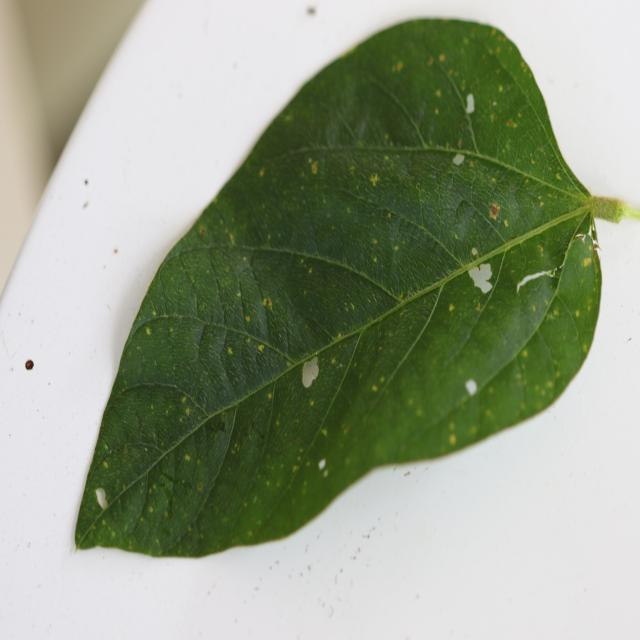Soybean: (0, 0, 640, 640)
downey_mildew: (114, 250, 312, 438), (204, 317, 353, 532), (212, 149, 408, 278), (271, 52, 420, 185), (427, 264, 549, 416), (512, 227, 595, 425), (79, 425, 203, 548), (184, 383, 275, 544), (252, 255, 392, 358), (362, 279, 459, 425), (498, 44, 580, 198), (114, 315, 213, 408), (407, 146, 575, 192), (460, 169, 532, 274), (96, 379, 205, 447), (181, 247, 231, 374), (466, 226, 514, 345), (423, 53, 481, 150), (155, 253, 200, 336), (129, 312, 213, 348)
